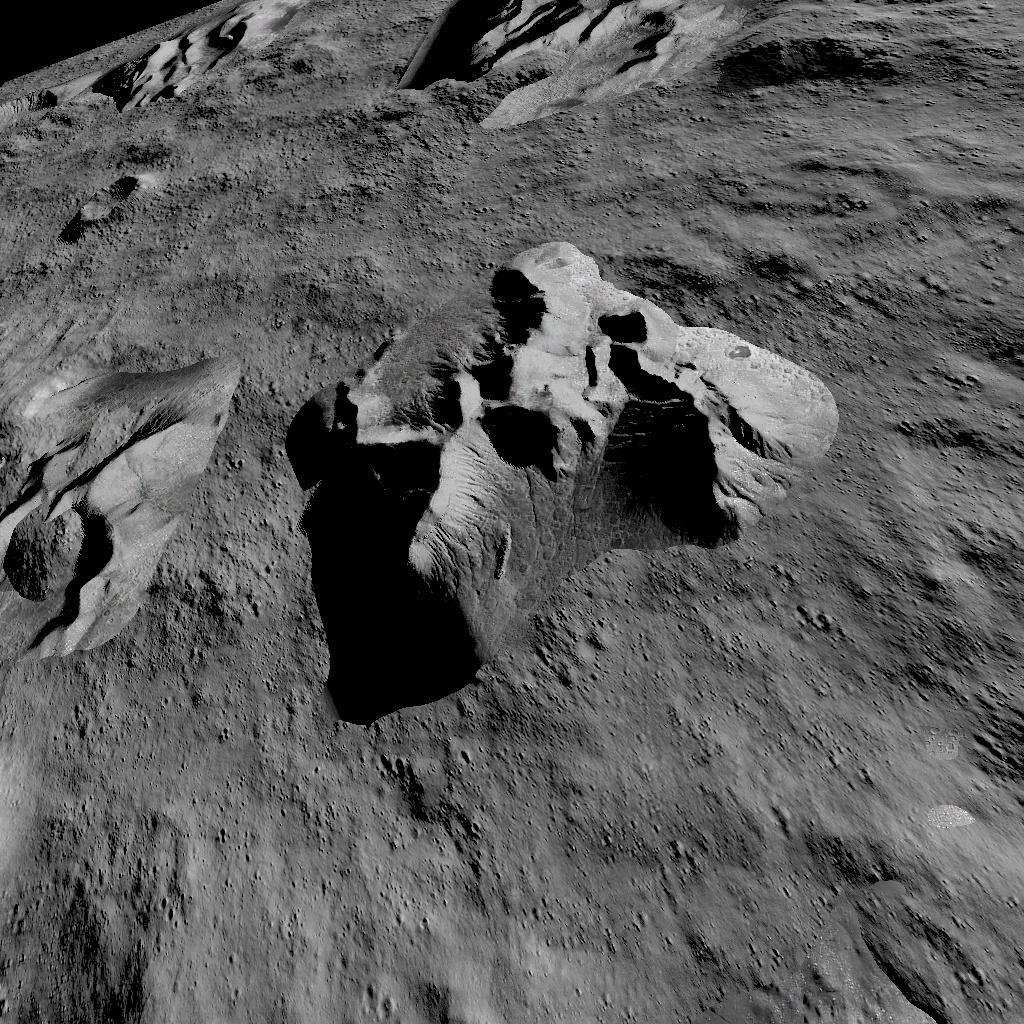Boulders: (275, 240, 836, 727), (404, 0, 900, 138), (95, 11, 286, 114)
Crater: (0, 365, 217, 661), (54, 174, 170, 256), (0, 85, 77, 170)
Plan surface: (9, 750, 1024, 1024), (864, 164, 1024, 720), (198, 126, 382, 226)
